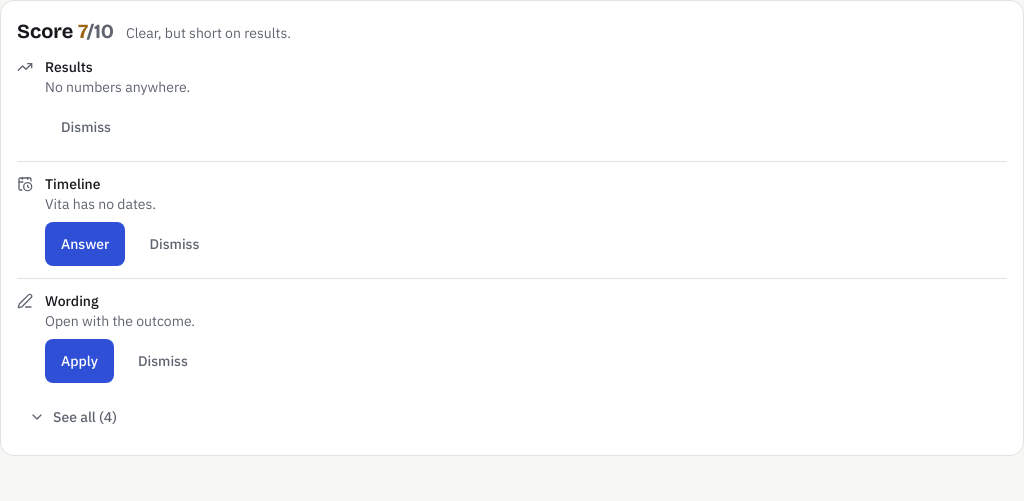
it: shows why an apply failed and keeps the finding
Click the button "Apply". click: (79, 361)
box: [45, 339, 114, 383]
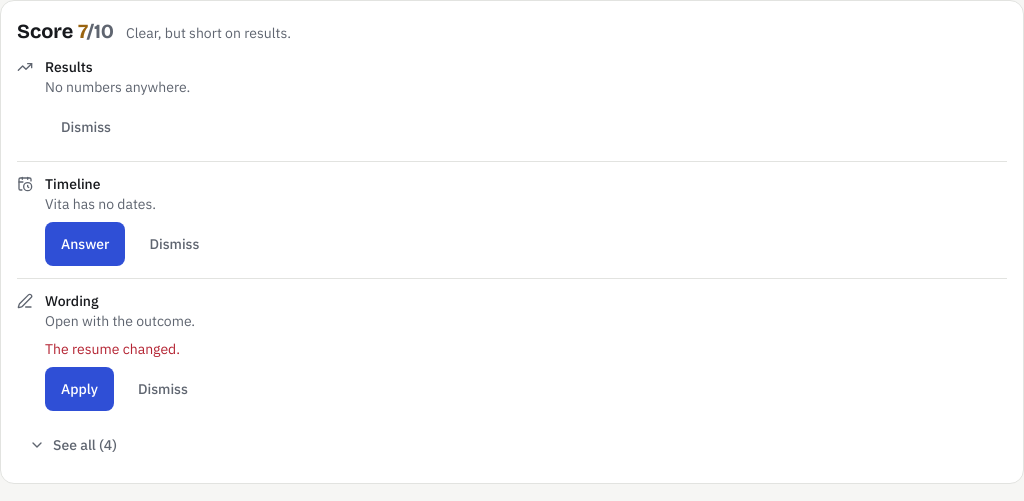
Now the message reads "The resume changed.", box [45, 340, 180, 358]
